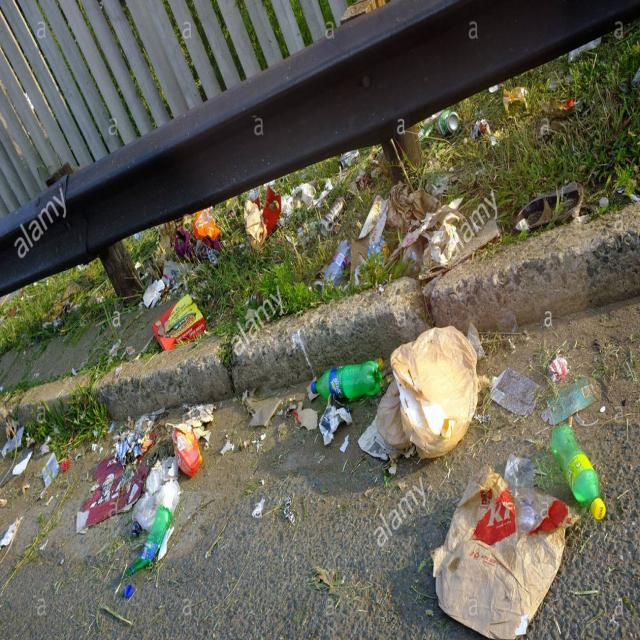garbage: (0, 58, 640, 636)
